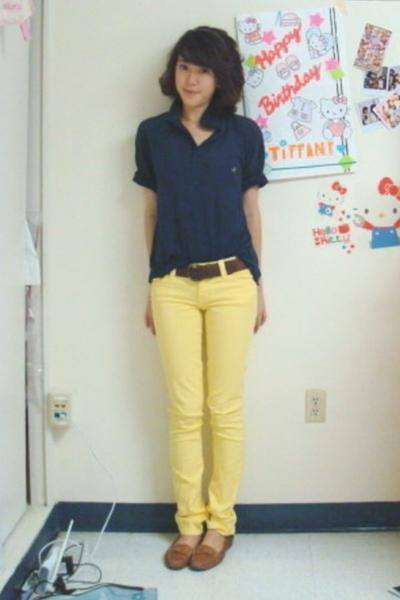pants: (146, 257, 263, 537)
shirt: (133, 111, 268, 282)
shoe: (163, 534, 233, 571)
